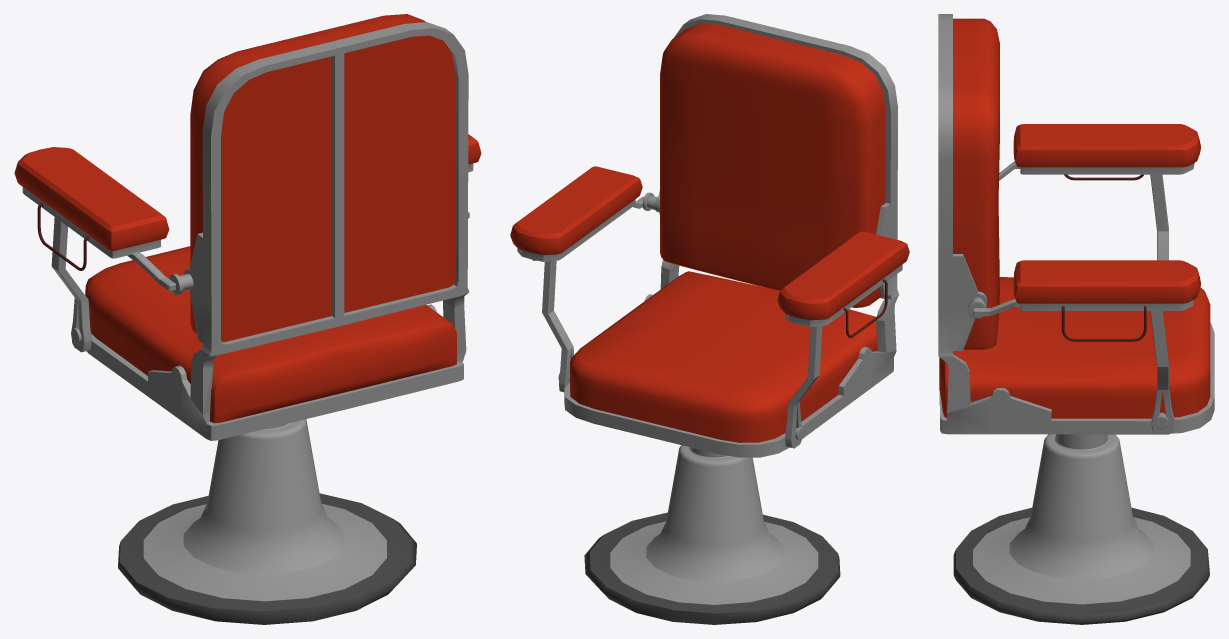
The model's file is chair_no_smooth.FBX.
3 renders of one model, left to right at view 1: azimuth 30°, elevation 25°; view 2: azimuth 150°, elevation 25°; view 3: azimuth 270°, elevation 25°, orthographic. The views are drawn at different scales.
Parts seen in each view (by area): view 1: chair; view 2: chair; view 3: chair.
Part boxes in pixels (x1,y1,x2,y2): chair: [14, 14, 481, 624]; chair: [510, 14, 909, 624]; chair: [938, 14, 1214, 624].
Size of the model in its own units: 98.44 by 145 by 70.5.
